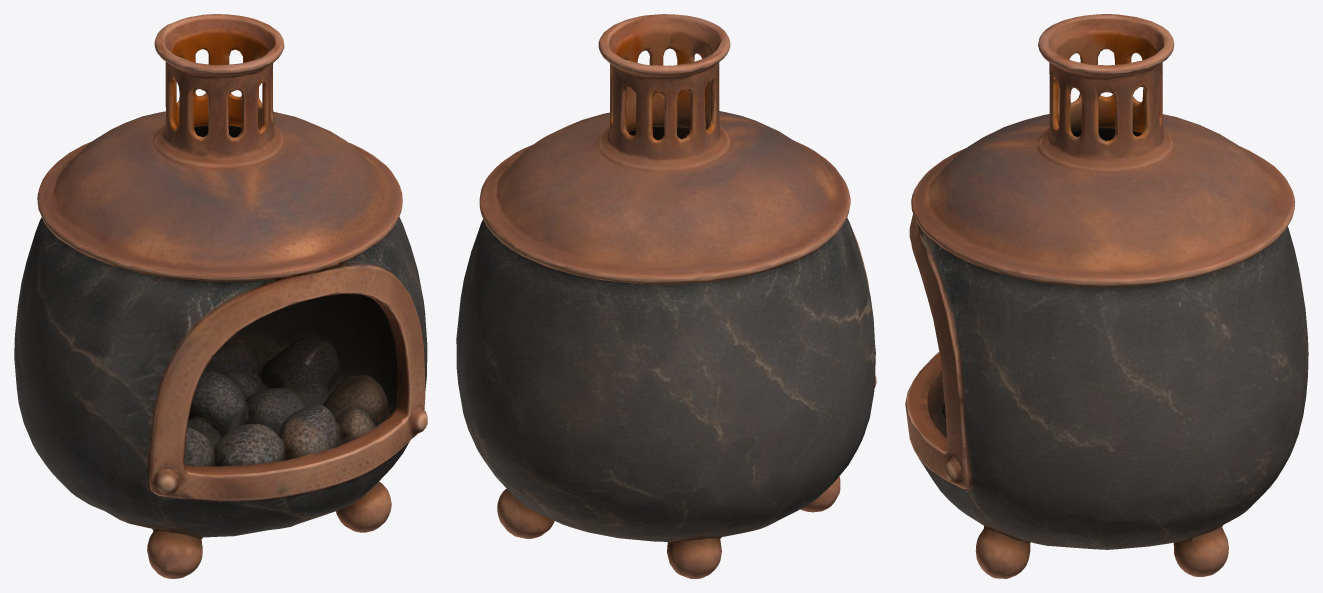
Rendered from baby-bonfire.glb.
3 views of the same model, side by side, from view 1: azimuth 30°, elevation 25°; view 2: azimuth 150°, elevation 25°; view 3: azimuth 270°, elevation 25° (orthographic). The views are drawn at different scales.
Parts seen in each view (by area): view 1: baby-bonfire; view 2: baby-bonfire; view 3: baby-bonfire.
Boxes of the visible parts, <box> form: baby-bonfire: <box>14,14,427,578</box>; baby-bonfire: <box>456,14,876,578</box>; baby-bonfire: <box>905,14,1308,578</box>.
Bounding box in the file's own units: 0.1022 × 0.13 × 0.0972.
1 material, 1 textured.
